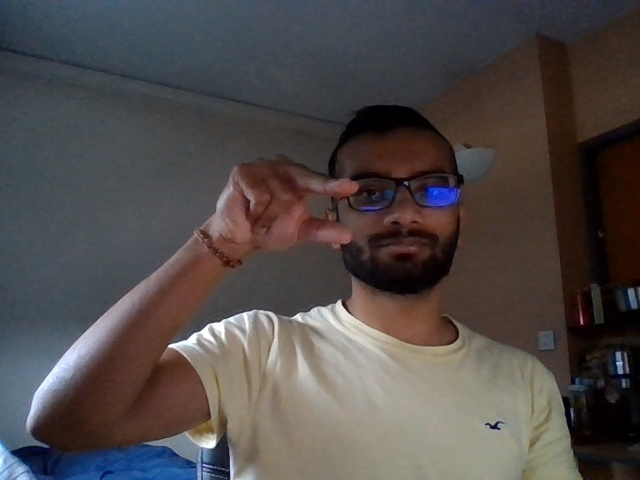No: (197, 146, 365, 260)
